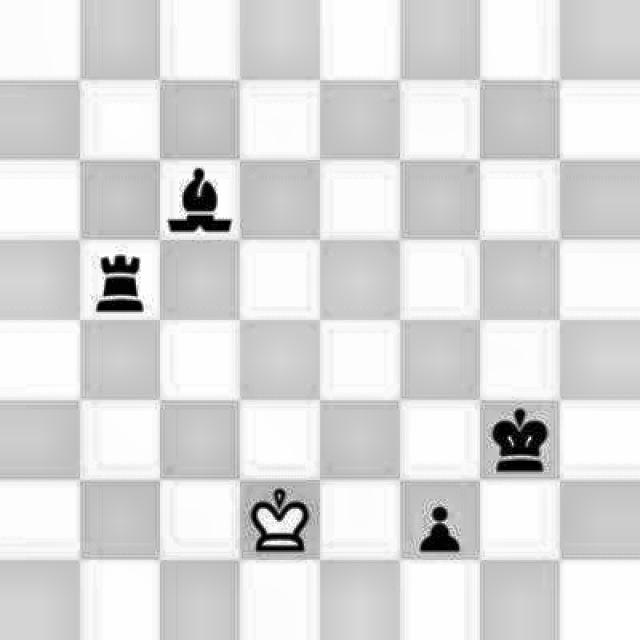black bishop: (162, 163, 236, 243)
black king: (475, 402, 558, 483)
black pawn: (398, 483, 468, 553)
black rook: (83, 242, 152, 319)
white king: (246, 483, 312, 564)
